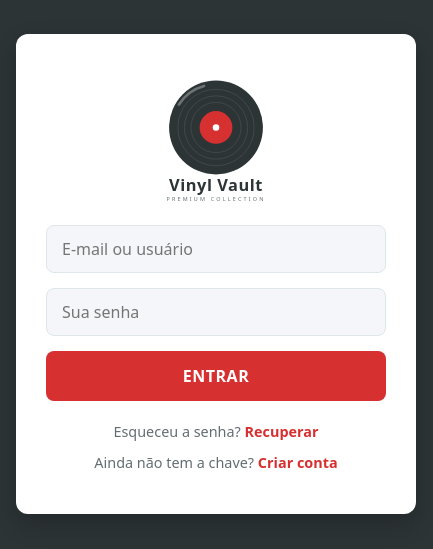
Scenario: Login › shows the API error and lets the user try again
The width and height of the screenshot is (433, 549).
Step 1. Type "ana" into the field labelled "E-mail ou usuário" → (216, 249), box [46,225,386,273]
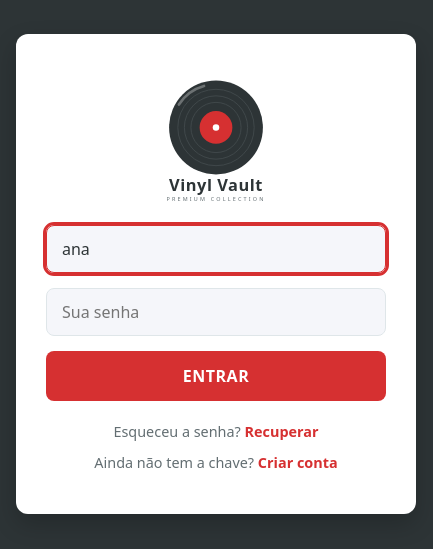
Step 2. Type "errada" into the password field labelled "Sua senha" → (216, 312), box [46,288,386,336]
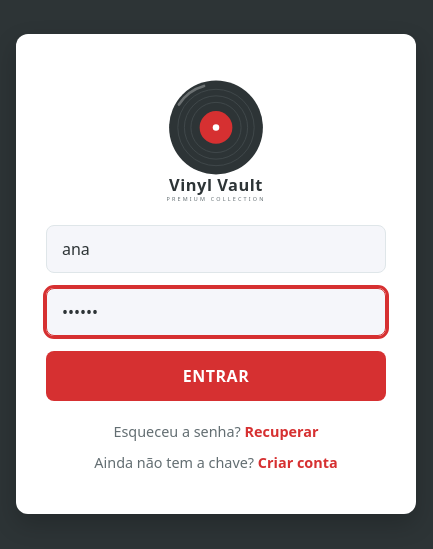
Step 3. Click the button "Entrar" → (216, 376), box [46,351,386,401]
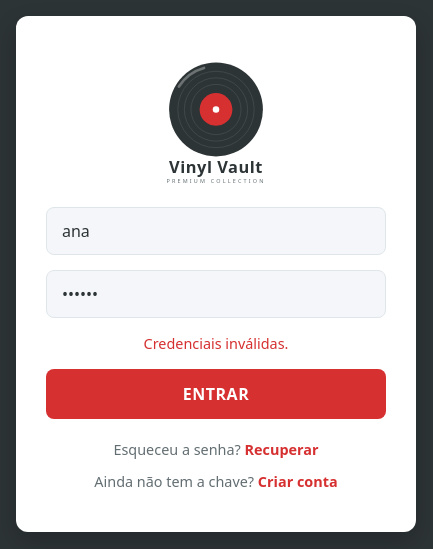
Expected: the button "Entrar" is enabled, [46,369,386,419]
Result: the message reads "Credenciais inválidas." at [144,334,288,352]
